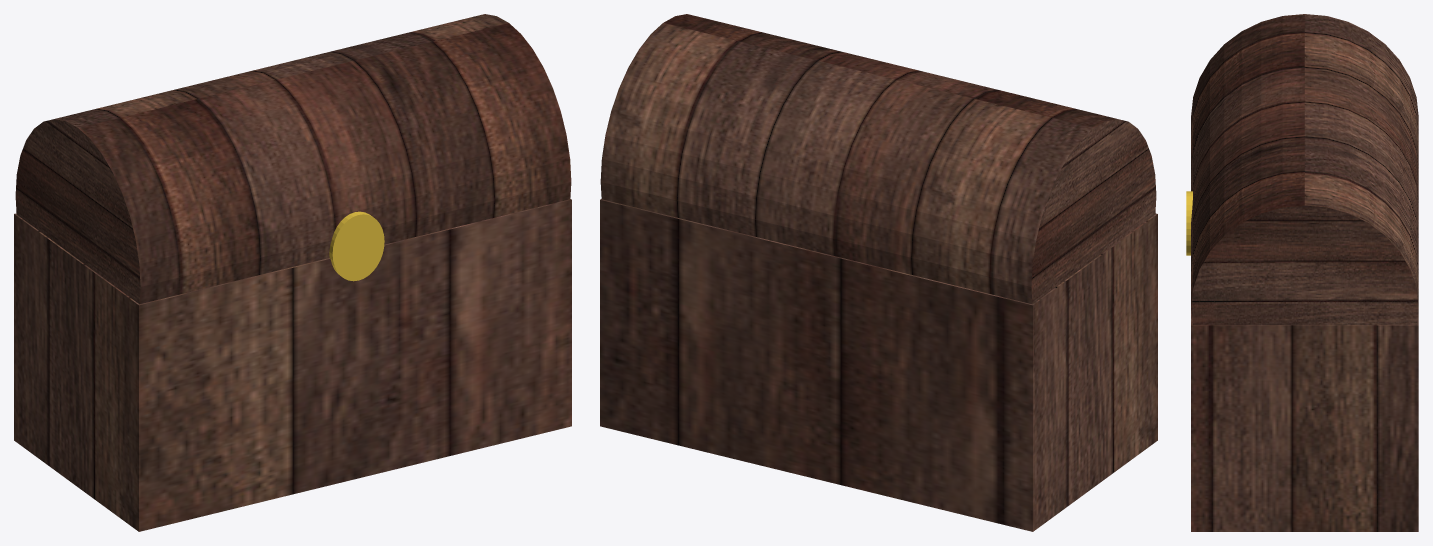
File: treasurechest.gltf
3 views of the same model, side by side, from view 1: azimuth 30°, elevation 25°; view 2: azimuth 150°, elevation 25°; view 3: azimuth 270°, elevation 25° (orthographic). The views are drawn at different scales.
Visible parts, largest first — view 1: Cube, Cylinder, Cylinder.001; view 2: Cube, Cylinder; view 3: Cylinder, Cube, Cylinder.001.
Boxes of the visible parts, bbox=[...] form: Cube: bbox=[14, 199, 571, 531]; Cylinder: bbox=[15, 14, 571, 304]; Cylinder.001: bbox=[329, 211, 384, 281]; Cube: bbox=[600, 199, 1157, 531]; Cylinder: bbox=[600, 14, 1156, 304]; Cylinder: bbox=[1191, 14, 1418, 325]; Cube: bbox=[1191, 311, 1418, 531]; Cylinder.001: bbox=[1186, 191, 1192, 255].
Size of the model in its own units: 4 by 3.16 by 2.04.
2 materials, 1 textured.
